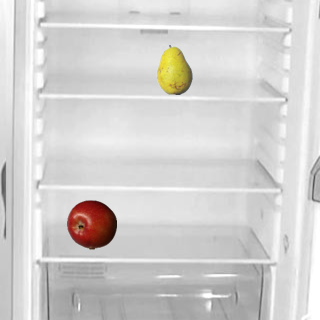Apple Braeburn: (66, 199, 116, 249)
Pear Monster: (149, 44, 199, 94)
